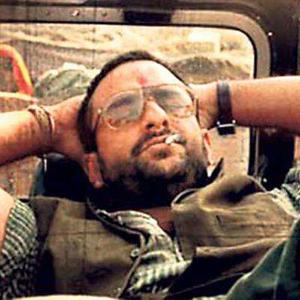cigarette: (165, 133, 181, 146)
